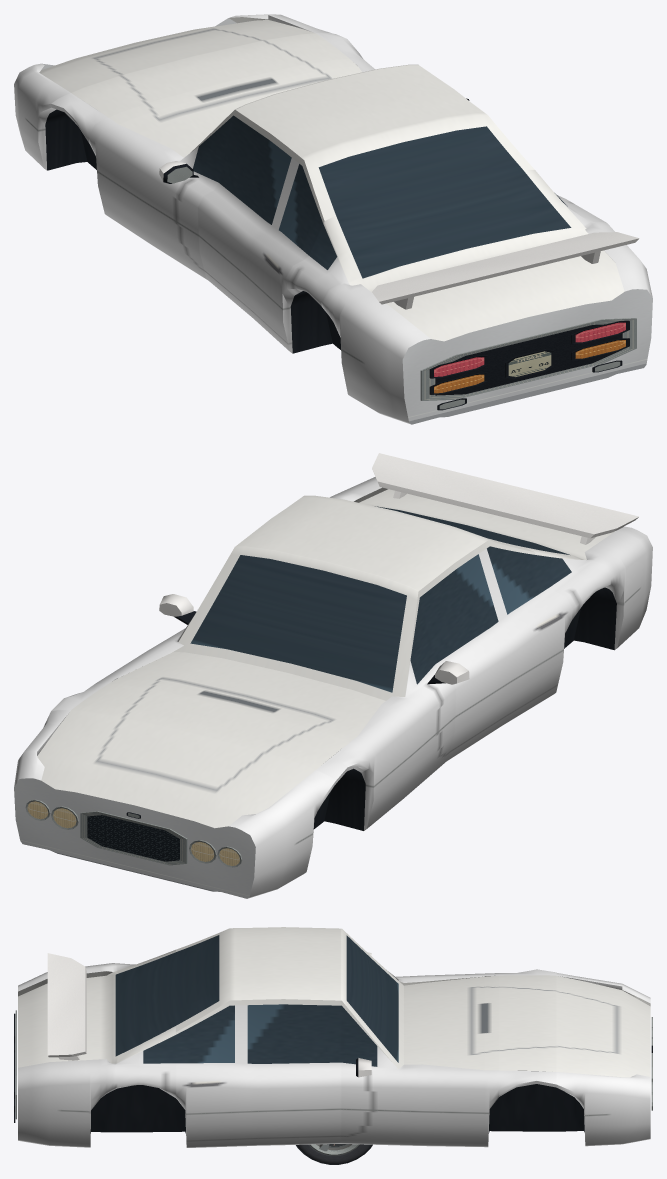
File: trovao_68.glb
3 views of the same model, one above another, from view 1: azimuth 30°, elevation 25°; view 2: azimuth 150°, elevation 25°; view 3: azimuth 270°, elevation 25° (orthographic). The views are drawn at different scales.
Visible parts, largest first — view 1: Carroceria_trovao_68; view 2: Carroceria_trovao_68; view 3: Carroceria_trovao_68, Roda_trovao_68.
Boxes of the visible parts, x1,y1,x2,y2 form: Carroceria_trovao_68: (14, 14, 652, 424); Carroceria_trovao_68: (14, 453, 652, 898); Carroceria_trovao_68: (14, 927, 652, 1147); Roda_trovao_68: (296, 1144, 372, 1164).
Bounding box in the file's own units: 2.14 × 1.68 × 4.8.
6 materials, 6 textured.
